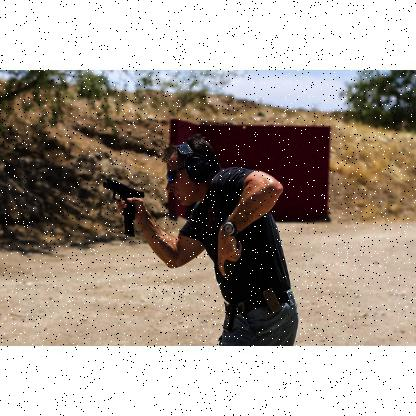gun: (102, 176, 144, 240)
